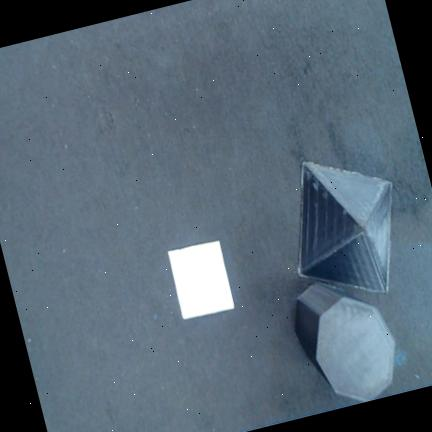Piramide: (298, 162, 390, 291), (169, 240, 234, 317)
Prisma_hexagonal: (295, 280, 395, 400)
